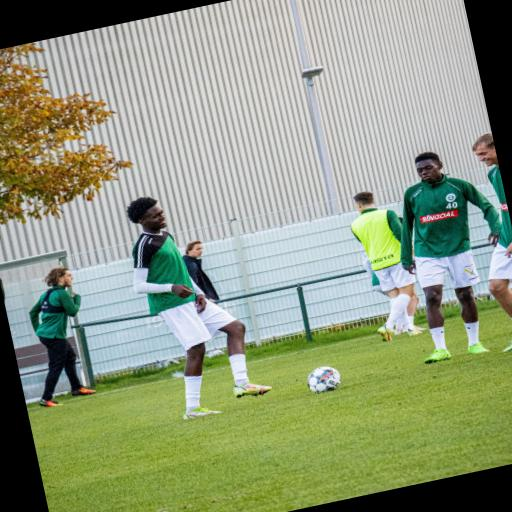shoe: (234, 383, 271, 397), (183, 408, 220, 419), (425, 349, 451, 363), (378, 325, 394, 341), (468, 342, 488, 354), (72, 387, 96, 396), (39, 400, 62, 407), (409, 329, 422, 335), (394, 329, 406, 335), (504, 341, 511, 351), (415, 325, 426, 331)
